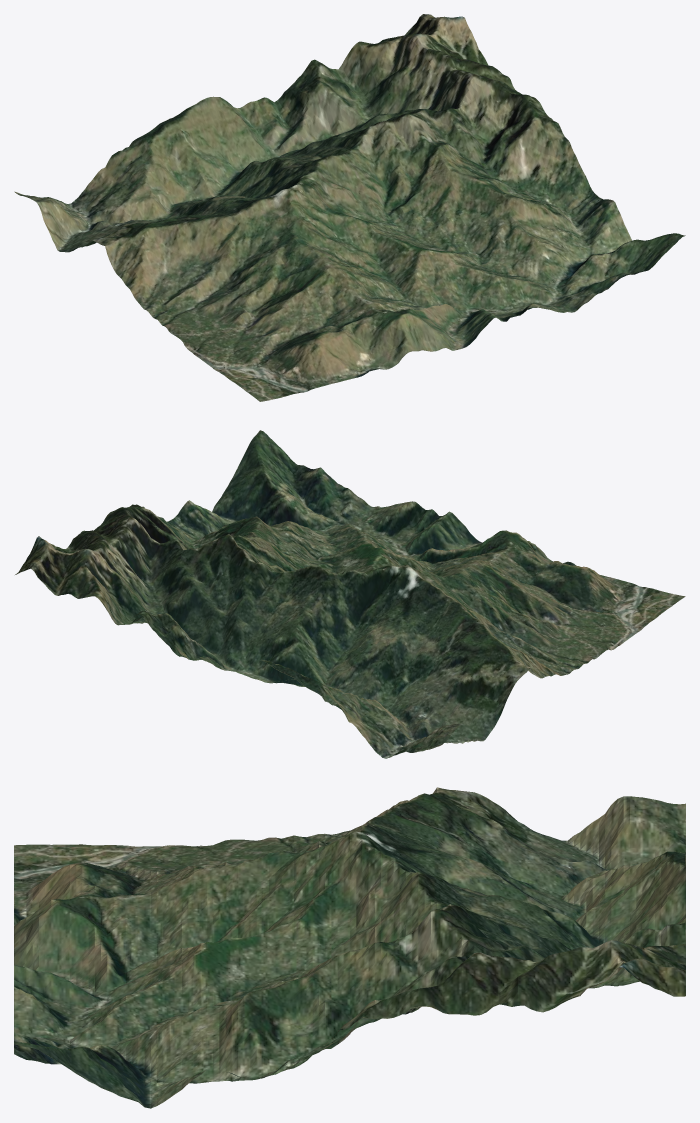
The picture shows the model from 3 angles, top to bottom: view 1: azimuth 30°, elevation 25°; view 2: azimuth 150°, elevation 25°; view 3: azimuth 270°, elevation 25°; orthographic projection. The views are drawn at different scales.
Parts seen in each view (by area): view 1: geometry_0; view 2: geometry_0; view 3: geometry_0.
Boxes of the visible parts, <box> form: geometry_0: <box>14,14,685,401</box>; geometry_0: <box>15,430,685,758</box>; geometry_0: <box>14,787,685,1108</box>.
Size of the model in its own units: 10004 by 2700 by 10010.
1 material, 1 textured.
